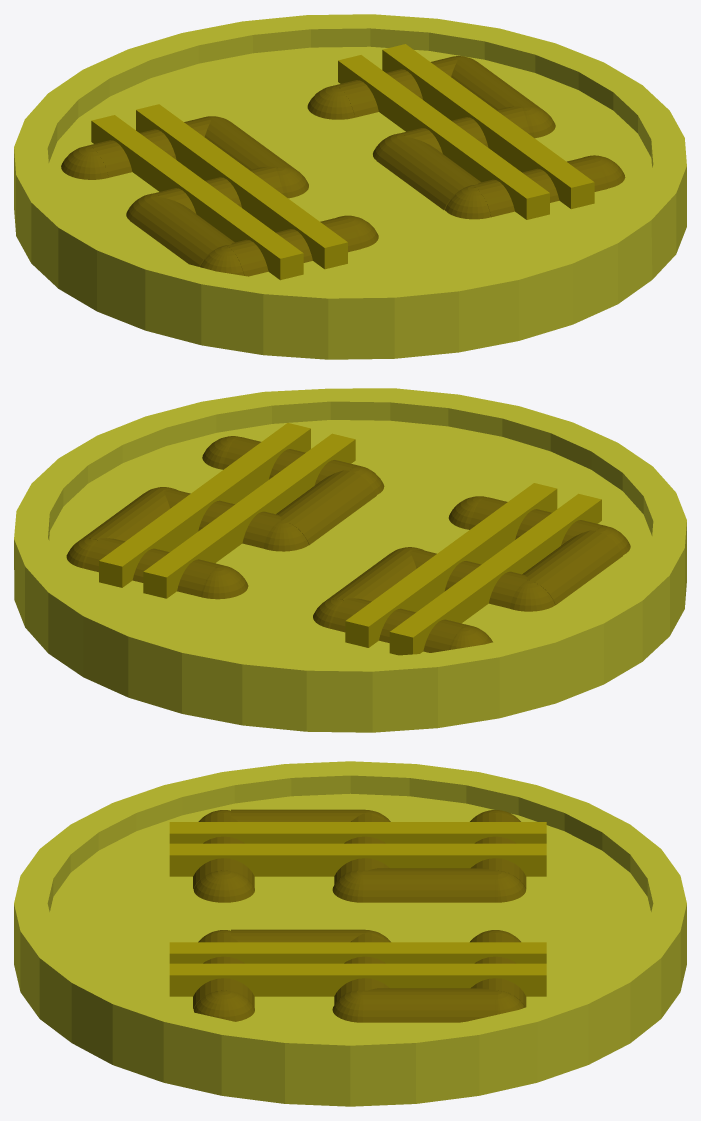
The model's file is coin.fbx.
3 renders of one model, top to bottom at view 1: azimuth 30°, elevation 25°; view 2: azimuth 150°, elevation 25°; view 3: azimuth 270°, elevation 25°, orthographic.
Parts seen in each view (by area): view 1: Cylinder, Cube.001, Cube.002, Cube.003, Cube, Cylinder.006, Cylinder.009, Cylinder.004, Cylinder.011, Cylinder.007, Cylinder.008, Cylinder.012 (+11 smaller); view 2: Cylinder, Cube.002, Cube.001, Cube, Cube.003, Cylinder.009, Cylinder.006, Cylinder.004, Cylinder.003, Cylinder.011, Cylinder.012, Cylinder.010 (+11 smaller); view 3: Cylinder, Cube.001, Cube.002, Cube, Cube.003, Cylinder.011, Cylinder.004, Cylinder.006, Cylinder.009, Sphere.006, Sphere.005, Cylinder.007 (+8 smaller).
Boxes of the visible parts, x1,y1,x2,y2 form: Cylinder: (14,14,686,359); Cube.001: (382,44,594,209); Cube.002: (136,104,347,269); Cube.003: (91,115,303,280); Cube: (338,55,549,219); Cylinder.006: (376,136,480,210); Cylinder.009: (130,196,234,266); Cylinder.004: (451,57,543,110); Cylinder.011: (204,117,295,169); Cylinder.007: (472,157,607,217); Cylinder.008: (226,217,361,276); Cylinder.012: (87,117,210,177); Cylinder: (14,388,686,732); Cube.002: (345,483,557,647); Cube.001: (99,423,310,587); Cube: (143,433,355,598); Cube.003: (389,493,601,655); Cylinder.009: (522,530,622,604); Cylinder.006: (276,470,376,544); Cylinder.004: (72,489,169,546); Cylinder.003: (84,538,222,596); Cylinder.011: (323,549,416,602); Cylinder.012: (330,598,468,652); Cylinder.010: (410,549,528,608); Cylinder: (14,761,686,1106); Cube.001: (169,963,546,996); Cube.002: (169,843,546,876); Cube: (169,942,546,963); Cube.003: (169,822,546,843); Cylinder.011: (363,868,497,902); Cylinder.004: (363,988,497,1022); Cylinder.006: (231,929,365,942); Cylinder.009: (231,809,365,821); Sphere.006: (193,870,254,902); Sphere.005: (193,990,254,1021); Cylinder.007: (193,933,254,1008).
Size of the model in its own units: 1000 by 110 by 1000.
